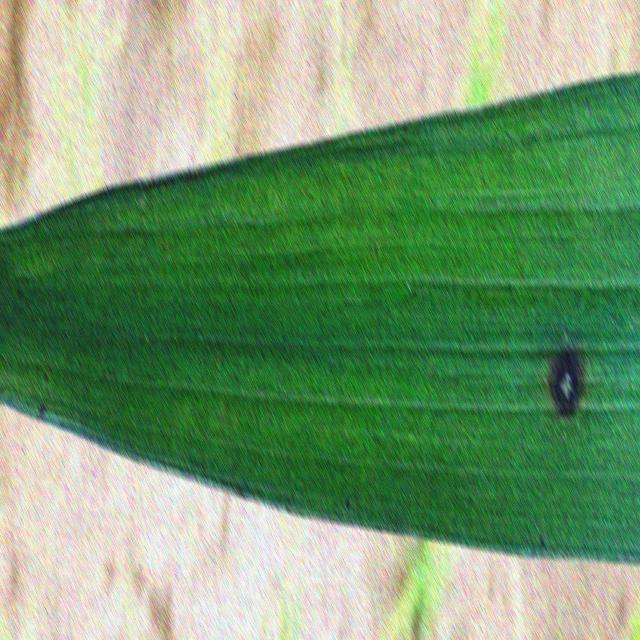LEAF BLAST: (549, 347, 582, 417)
